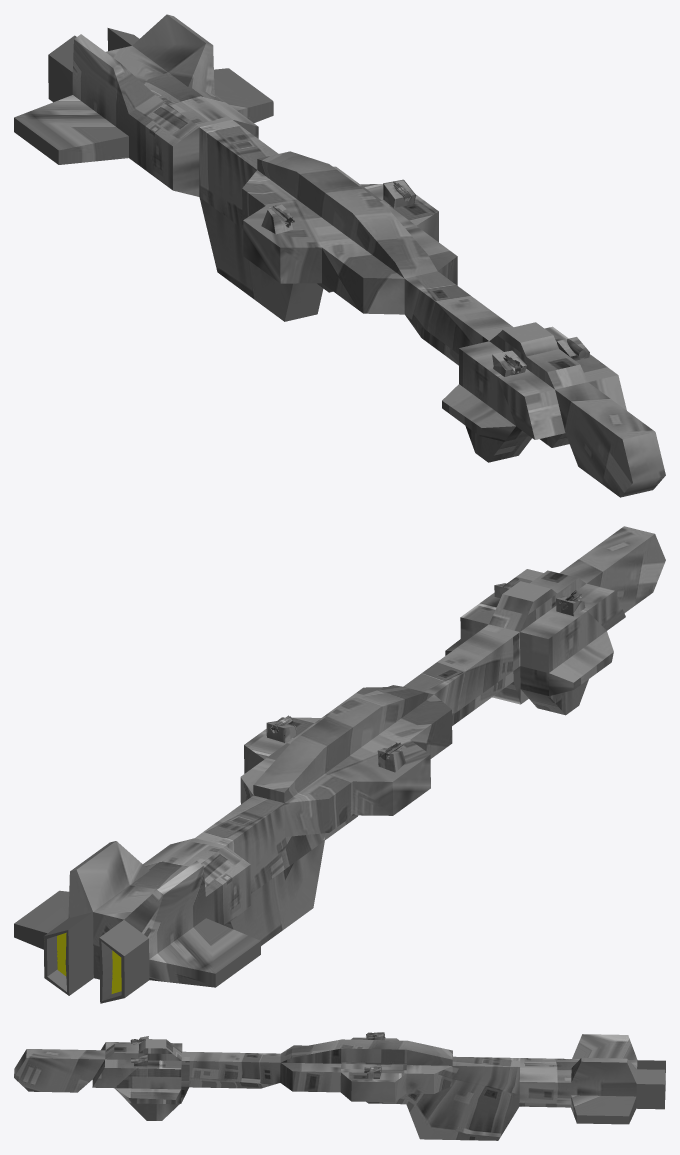
3 views of the same model, one above another, from view 1: azimuth 30°, elevation 25°; view 2: azimuth 150°, elevation 25°; view 3: azimuth 270°, elevation 25° (orthographic). The views are drawn at different scales.
Parts seen in each view (by area): view 1: DestroyerR_Destroyer_Untitled.000; view 2: DestroyerR_Destroyer_Untitled.000; view 3: DestroyerR_Destroyer_Untitled.000.
Part boxes in pixels (x1,y1,x2,y2): DestroyerR_Destroyer_Untitled.000: (14, 14, 665, 497); DestroyerR_Destroyer_Untitled.000: (14, 526, 665, 1003); DestroyerR_Destroyer_Untitled.000: (14, 1032, 665, 1140).
Bounding box in the file's own units: 347 × 250 × 1617.
